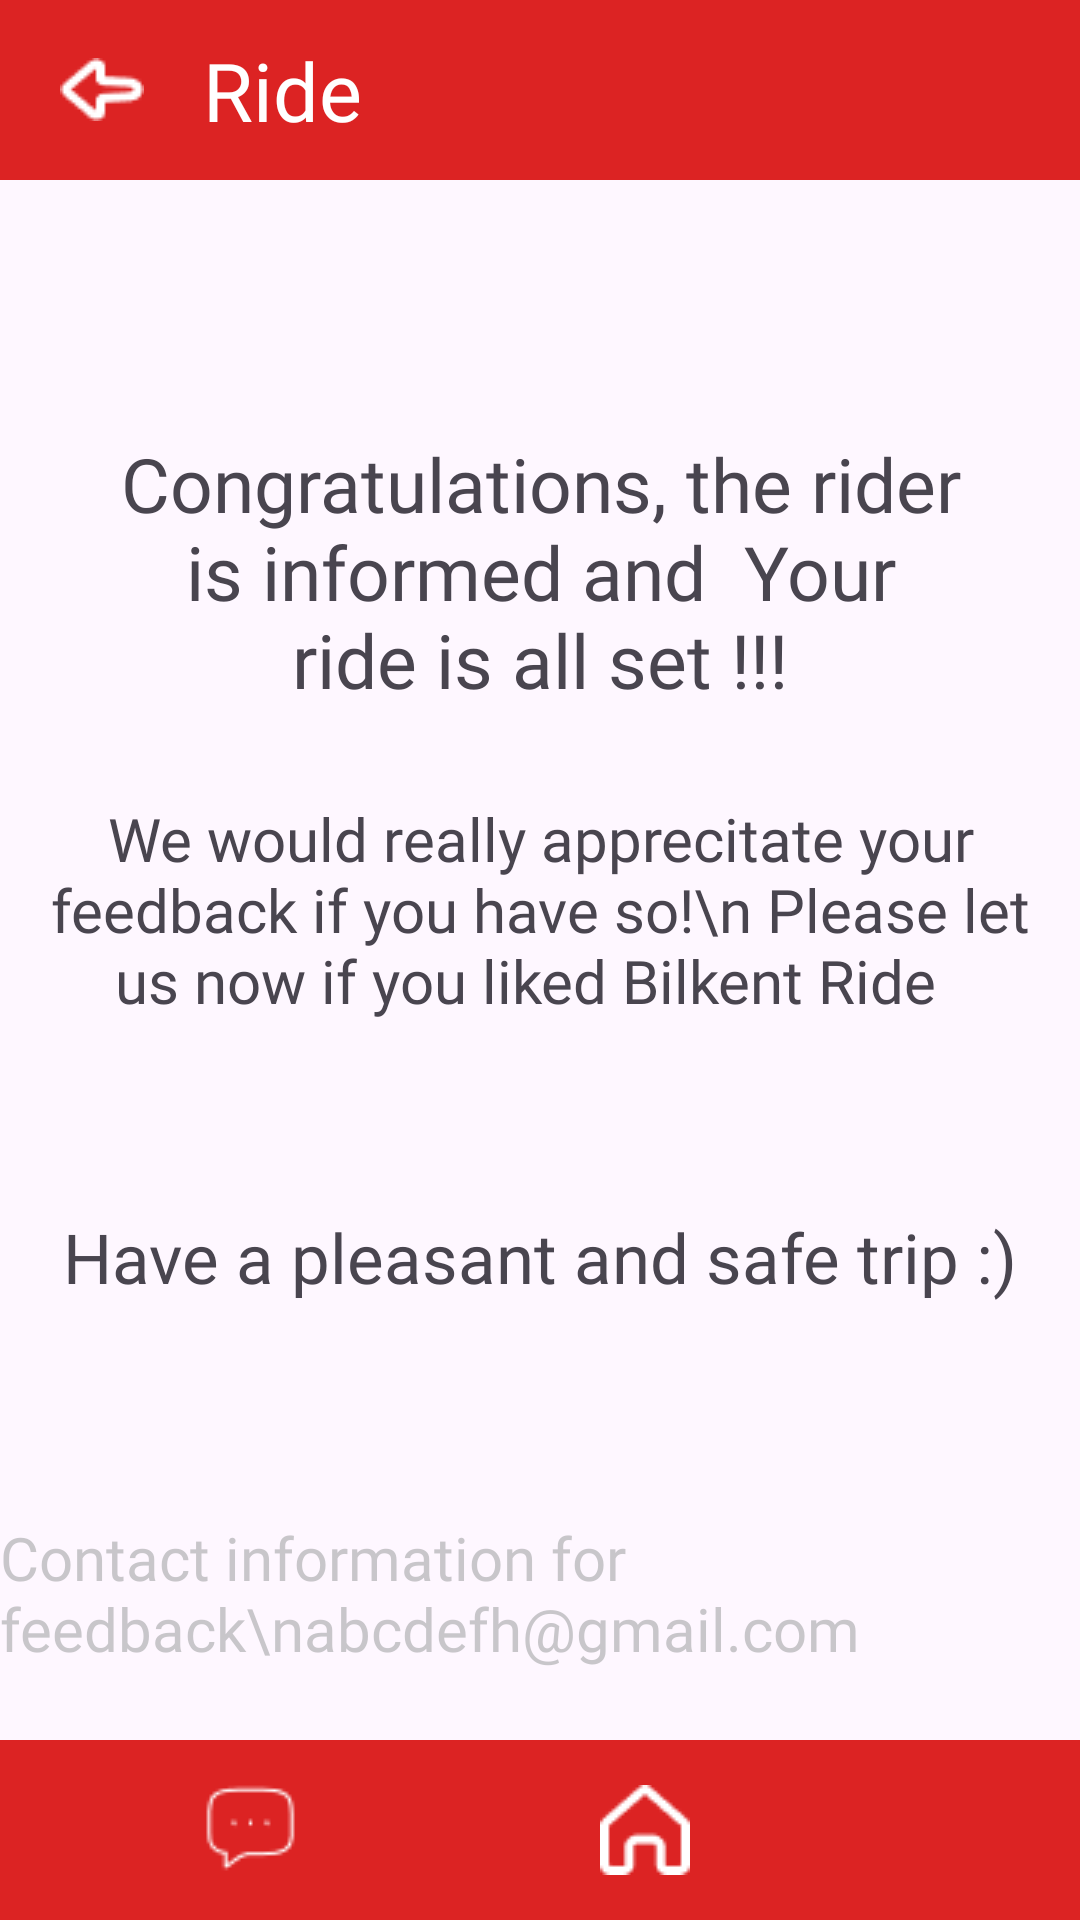

Where to tap for icons on this 1080px x 1920px app screen, as point (x, y):
chat: point (250, 1828)
